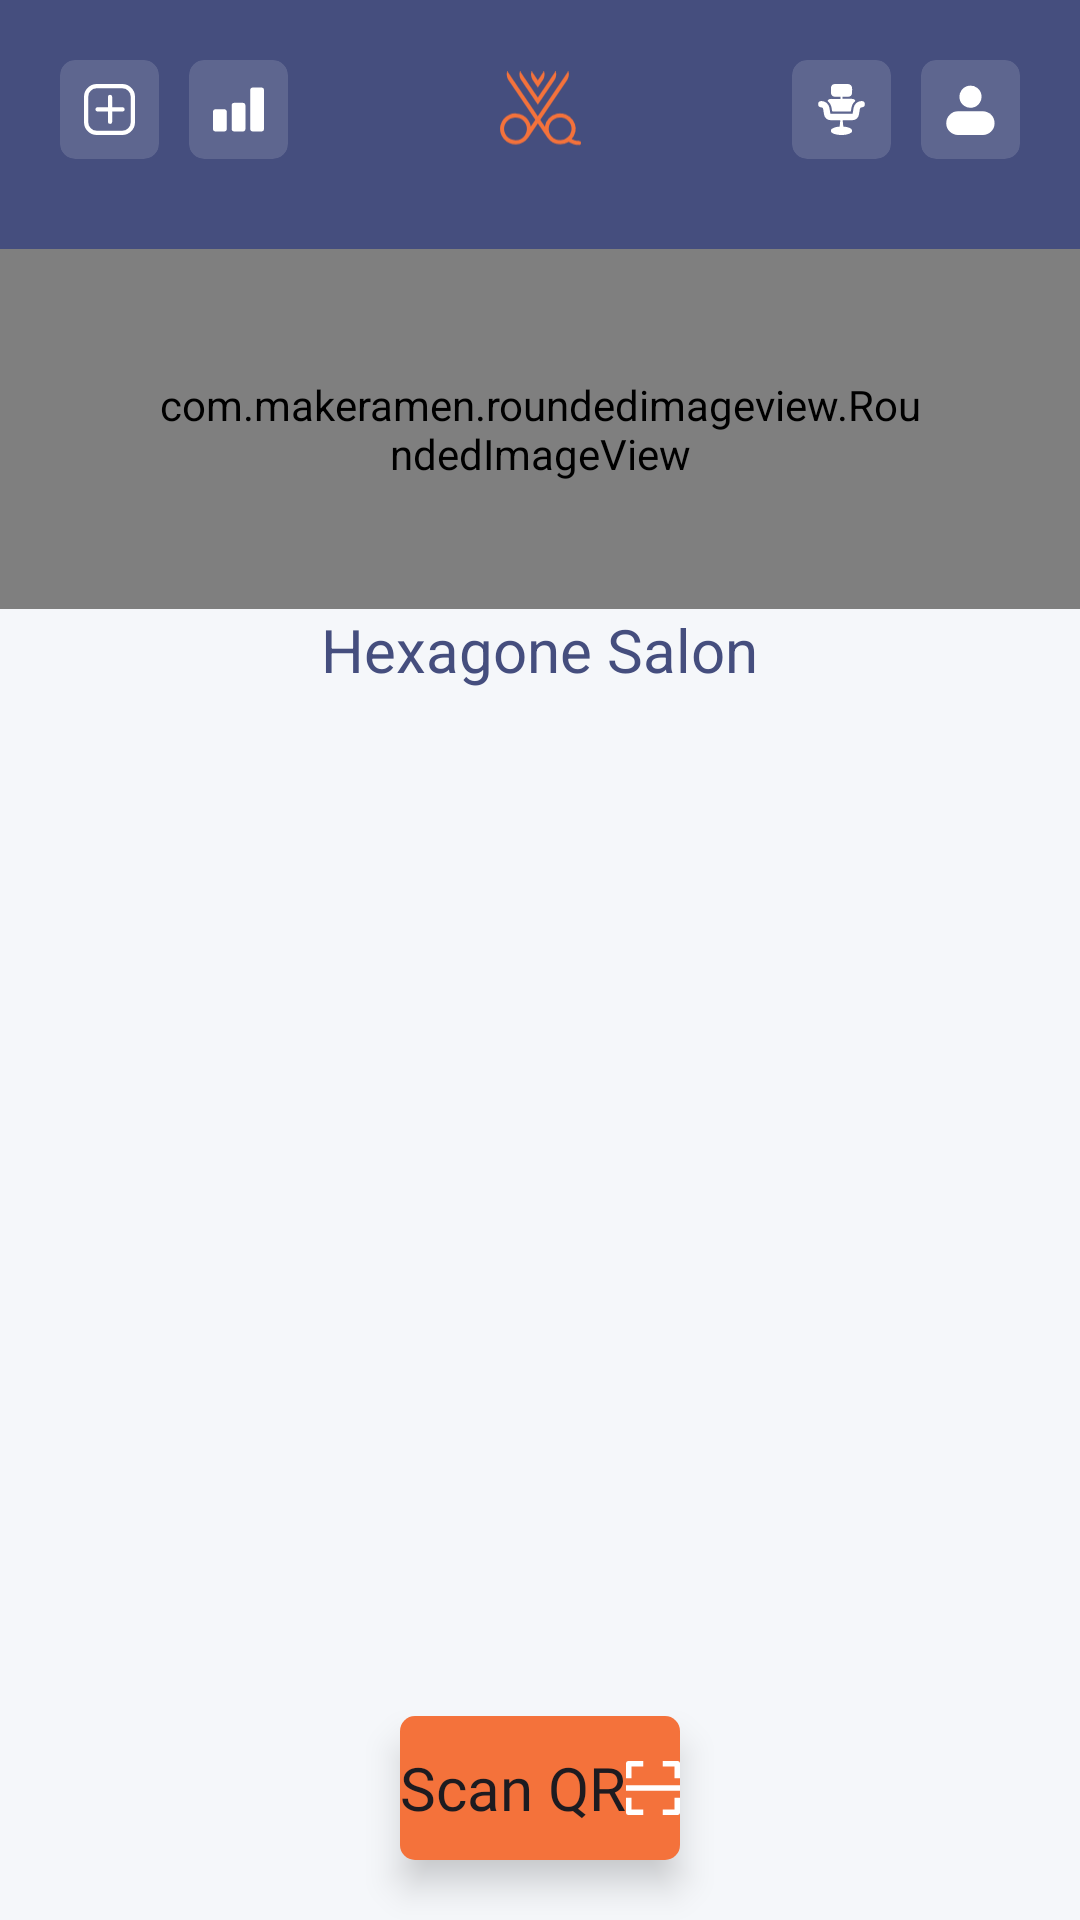

Icon click points for this 1080px x 1920px phone screenshot, format point (x, y):
add barber: point (109, 109)
profile: point (970, 109)
report: point (238, 109)
